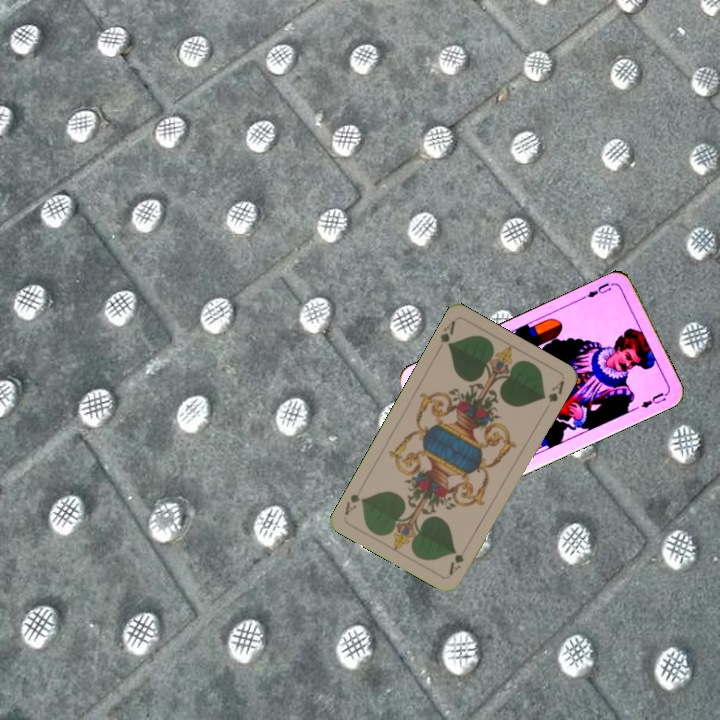EU: (579, 278, 619, 301)
GA: (445, 540, 471, 578), (436, 316, 458, 351)
